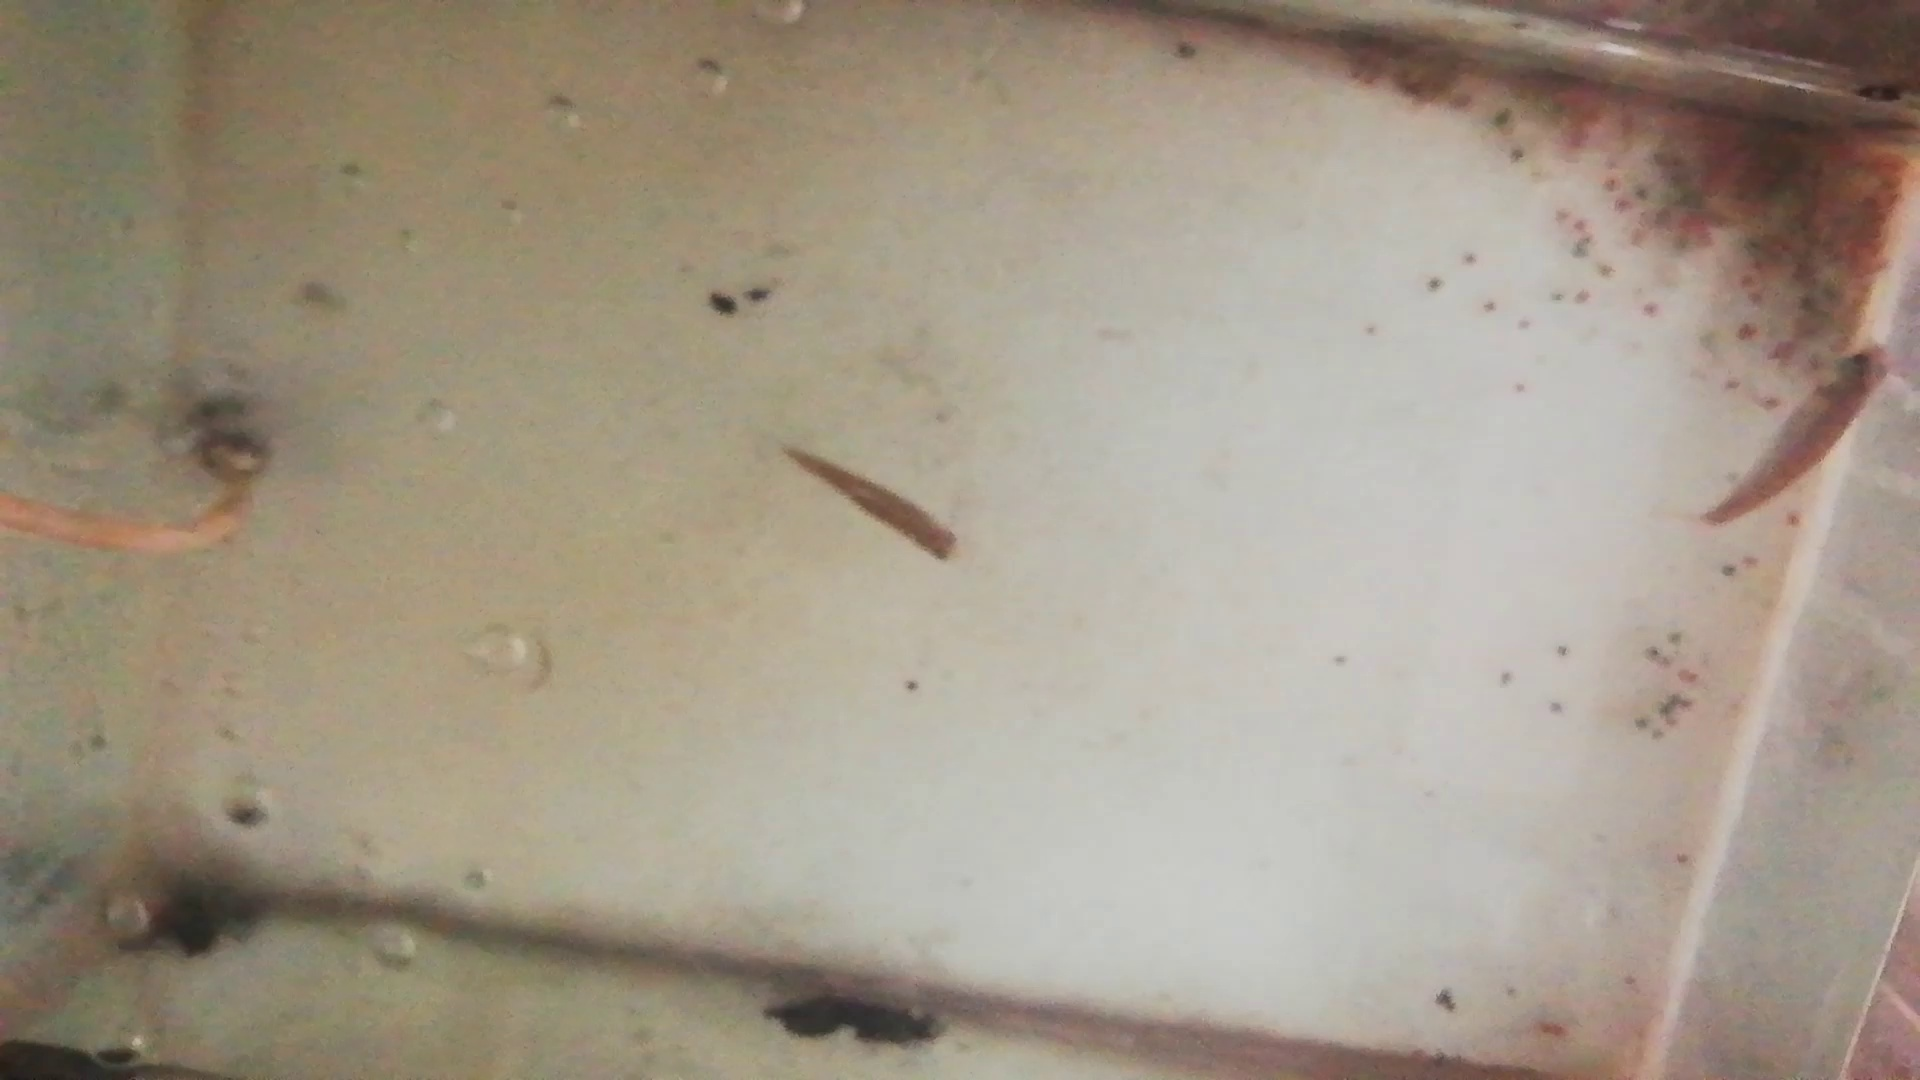fish: (1698, 342, 1887, 531), (781, 447, 963, 566)
